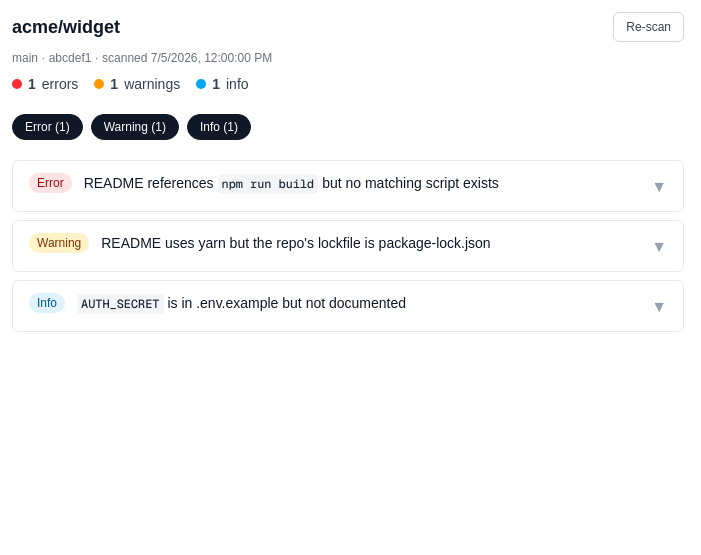
ReportView › expands a finding to reveal evidence and the suggested fix
expect the text "Suggested fix" is not shown: met
Step 1. Click the text "README references" → (291, 184), box [84,174,499,194]
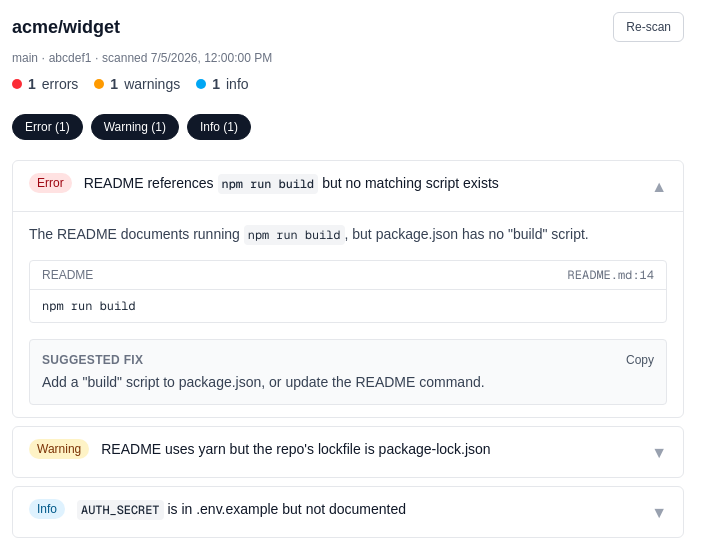
expect the text "Suggested fix" is shown: met, box [42,352,143,368]
expect the text "README.md:14" is shown: met, box [568,267,654,283]
